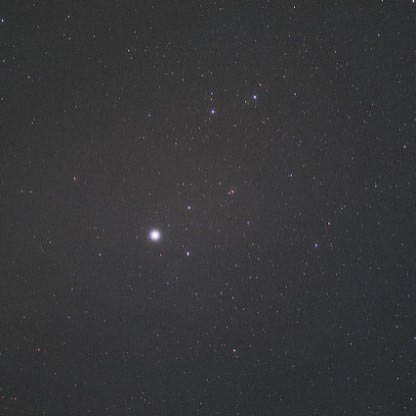Lyra: (146, 223, 167, 248), (249, 86, 266, 111), (223, 180, 239, 203), (178, 245, 197, 264), (205, 102, 222, 122), (180, 197, 194, 221)
